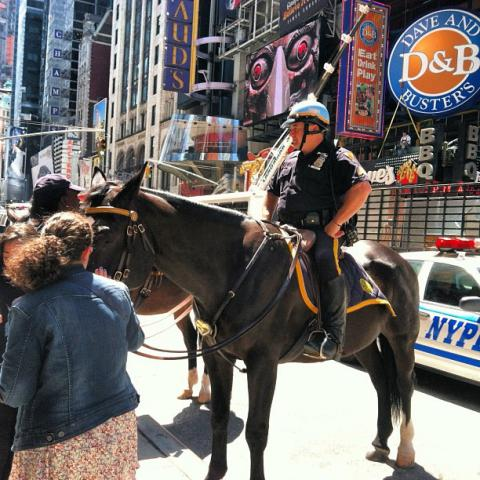car: (398, 238, 480, 390)
